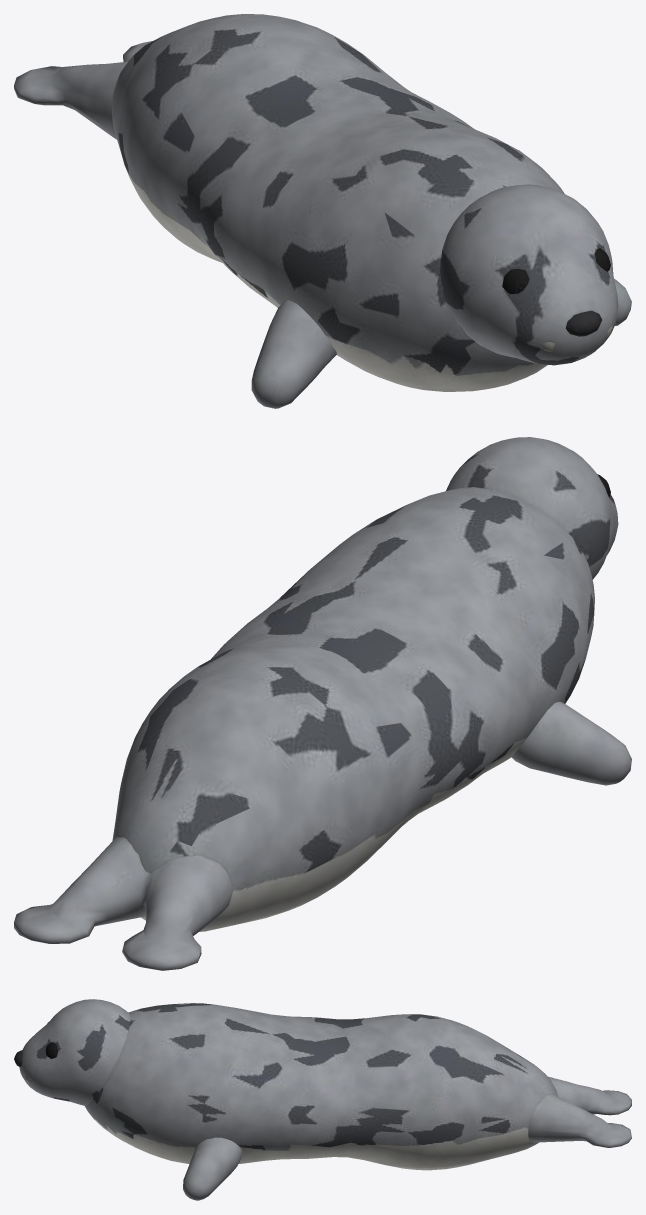
The model's file is harbor_seal.glb.
3 renders of one model, top to bottom at view 1: azimuth 30°, elevation 25°; view 2: azimuth 150°, elevation 25°; view 3: azimuth 270°, elevation 25°, orthographic. The views are drawn at different scales.
Visible parts, largest first — view 1: harbor_seal, head, flip0, tail; view 2: harbor_seal, tail, head, flip0; view 3: harbor_seal, head, tail, flip1.
Boxes of the visible parts, x1=… form: harbor_seal: x1=112, y1=14, x2=564, y2=391; head: x1=440, y1=184, x2=618, y2=365; flip0: x1=251, y1=300, x2=336, y2=408; tail: x1=14, y1=41, x2=152, y2=139; harbor_seal: x1=112, y1=487, x2=594, y2=931; tail: x1=14, y1=836, x2=233, y2=970; head: x1=446, y1=437, x2=618, y2=579; flip0: x1=511, y1=701, x2=631, y2=785; harbor_seal: x1=85, y1=1003, x2=557, y2=1170; head: x1=14, y1=999, x2=130, y2=1105; tail: x1=528, y1=1076, x2=631, y2=1147; flip1: x1=183, y1=1137, x2=242, y2=1200.
Size of the model in its own units: 0.3094 by 0.2033 by 0.7189.
Materials: 1 (1 with a texture image).
